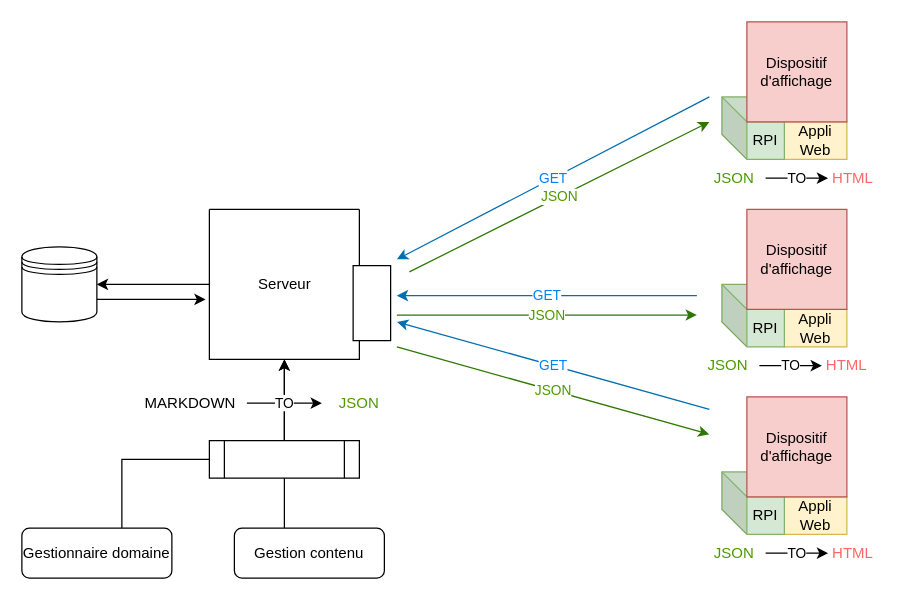
Image size: 913x600. Some labels were removed from this diagram. Here are the shapes that lost their labels. From the top down, the centre of each, then its label:
At pixel 59 284: "BD".
At pixel 371 302: "API".
At pixel 283 458: "Backoffice".
